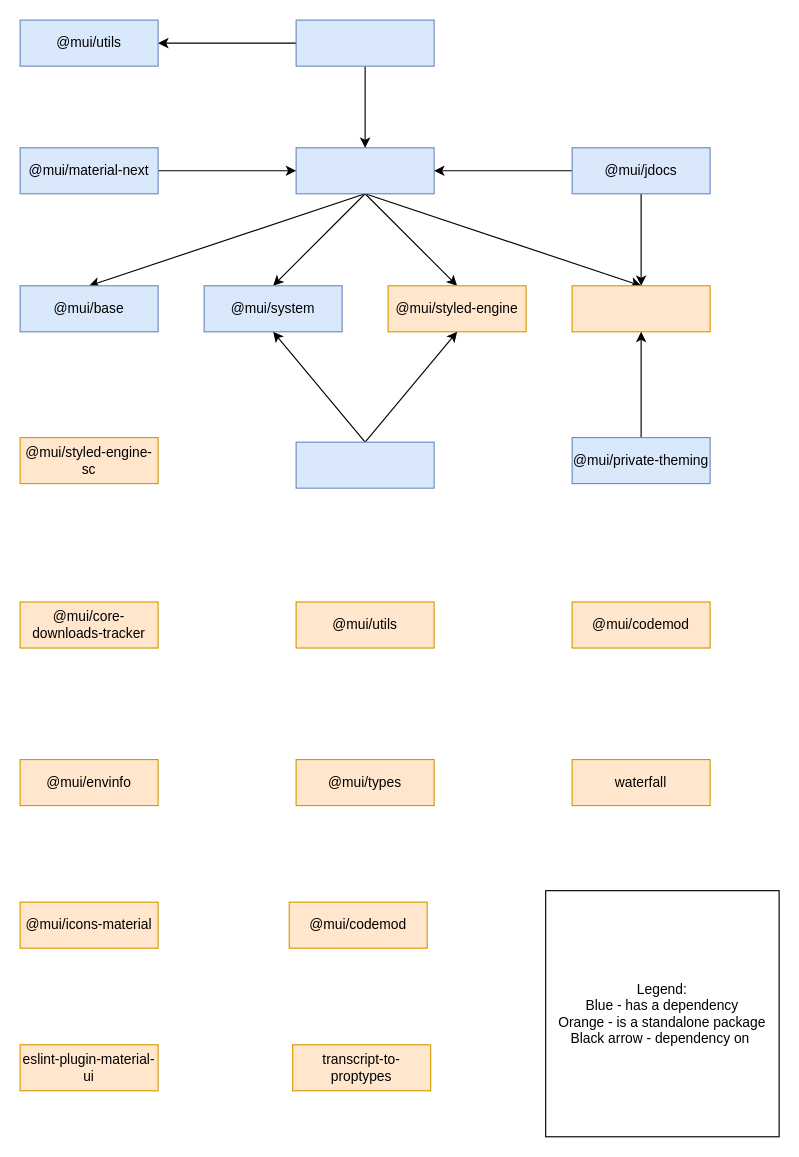
Image size: 799x1157. Some labels were removed from this diagram. The centre of each missing label's shape, as x and y in pixels:
"@mui/joy" belongs at (x=364, y=464).
"@mui/lab" belongs at (x=364, y=42).
"@mui/material" belongs at (x=364, y=170).
"@mui/styles" belongs at (x=640, y=308).
